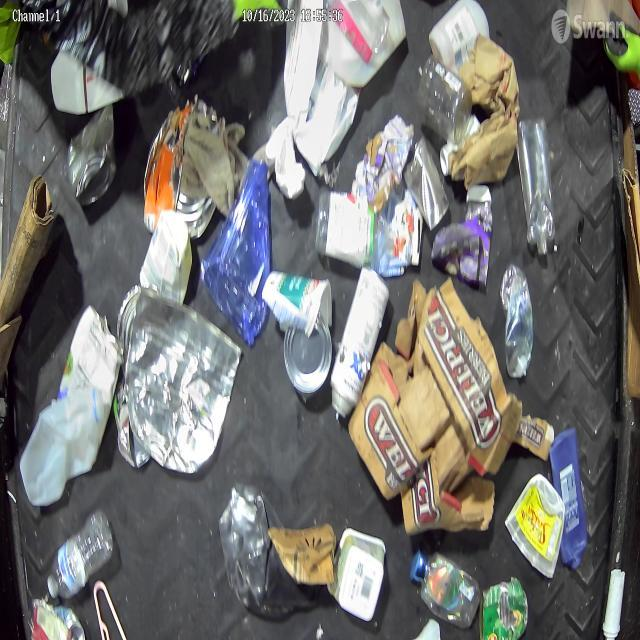can: (128, 287, 242, 475), (144, 100, 222, 238), (330, 265, 390, 421), (57, 304, 124, 399), (66, 111, 118, 205), (403, 138, 451, 231), (284, 315, 332, 393), (478, 576, 528, 640), (114, 409, 150, 469)
milk_jug: (19, 386, 104, 506), (327, 0, 407, 85), (293, 85, 358, 177), (139, 212, 193, 304), (428, 0, 492, 69)
plastic_bottle: (46, 506, 115, 602), (410, 546, 482, 629), (516, 117, 556, 254), (500, 264, 534, 381)
